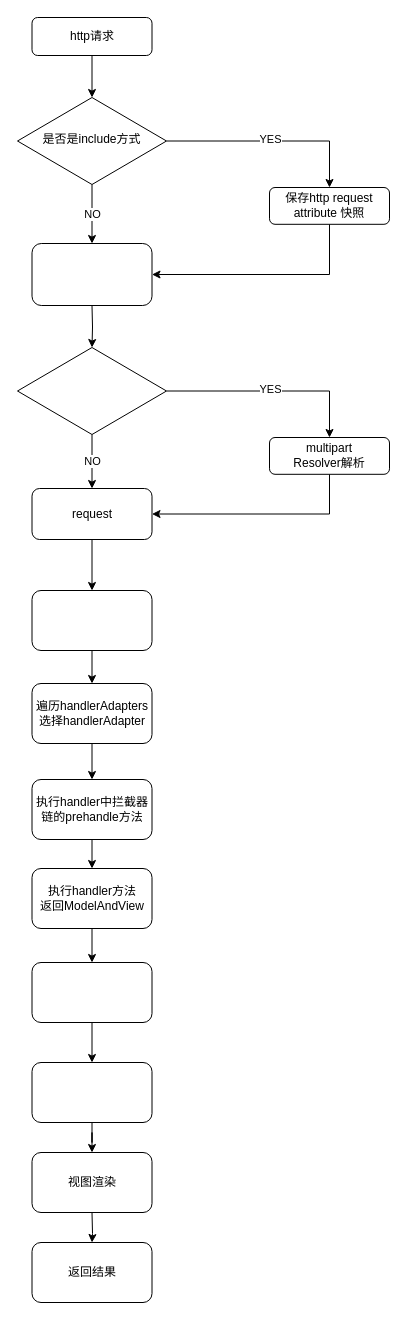
Some shapes in this 407 by 1320 pixel diagram are drawn without their labels. The shapes that lost their labels are listed below. From the top down, each one's box as (x1, y1, x2, y2) in pixels, then its label:
(31, 242, 152, 306): dispatchservlet分发请求
(16, 346, 166, 434): 是否是Multipart 如文件上传
(31, 590, 152, 650): 遍历handlerMappings 选择handler
(31, 962, 152, 1022): 执行handler中拦截器链的postHandler方法
(31, 1062, 152, 1122): 解析视图ViewResolver
